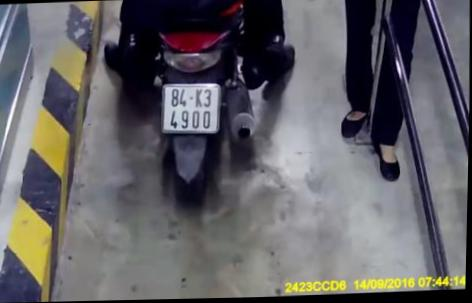LP: (161, 81, 223, 137)
